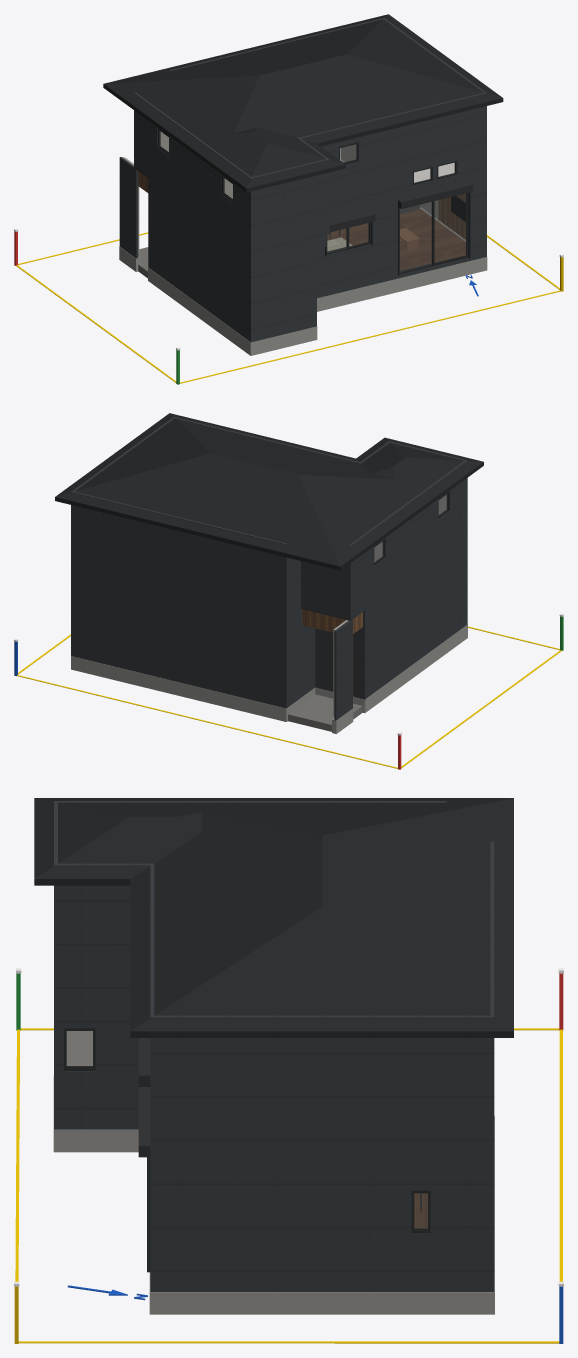
Rendered from A_24_flat.glb.
The picture shows the model from 3 angles, top to bottom: view 1: azimuth 30°, elevation 25°; view 2: azimuth 150°, elevation 25°; view 3: azimuth 270°, elevation 25°; orthographic projection. The views are drawn at different scales.
Parts seen in each view (by area): view 1: siding, roof, glass, found, floor, shutter, frame, lotline, wall, accent; view 2: siding, roof, found, lotline, tile, woodceil, wall; view 3: siding, roof, found, lotline, shutter, glass, wall, frame.
Boxes of the visible parts, x1=… form: siding: x1=119, y1=18, x2=486, y2=342; roof: x1=103, y1=14, x2=503, y2=192; glass: x1=160, y1=132, x2=465, y2=271; found: x1=119, y1=246, x2=487, y2=355; floor: x1=327, y1=208, x2=465, y2=270; shutter: x1=325, y1=182, x2=473, y2=275; frame: x1=158, y1=128, x2=468, y2=274; lotline: x1=16, y1=232, x2=560, y2=383; wall: x1=123, y1=131, x2=438, y2=253; accent: x1=438, y1=193, x2=465, y2=239; siding: x1=71, y1=417, x2=467, y2=720; roof: x1=55, y1=413, x2=483, y2=570; found: x1=71, y1=624, x2=467, y2=733; lotline: x1=17, y1=626, x2=561, y2=768; tile: x1=288, y1=694, x2=362, y2=731; woodceil: x1=302, y1=609, x2=362, y2=633; wall: x1=333, y1=495, x2=446, y2=715; siding: x1=54, y1=801, x2=494, y2=1291; roof: x1=34, y1=798, x2=513, y2=1037; found: x1=53, y1=1076, x2=494, y2=1314; lotline: x1=15, y1=1028, x2=562, y2=1343; shutter: x1=138, y1=1038, x2=150, y2=1272; glass: x1=67, y1=1031, x2=427, y2=1227; wall: x1=66, y1=1031, x2=92, y2=1065; frame: x1=64, y1=1028, x2=430, y2=1233.
Size of the model in its own units: 14.14 by 7.01 by 10.42.
Materials: 31 (6 with a texture image).
